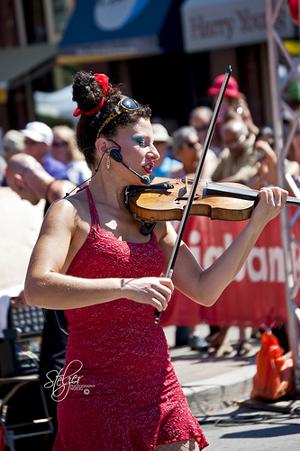person: (26, 71, 289, 451)
